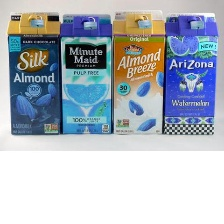carton: (163, 7, 219, 137), (6, 8, 62, 137), (113, 4, 166, 138), (60, 8, 114, 137)
